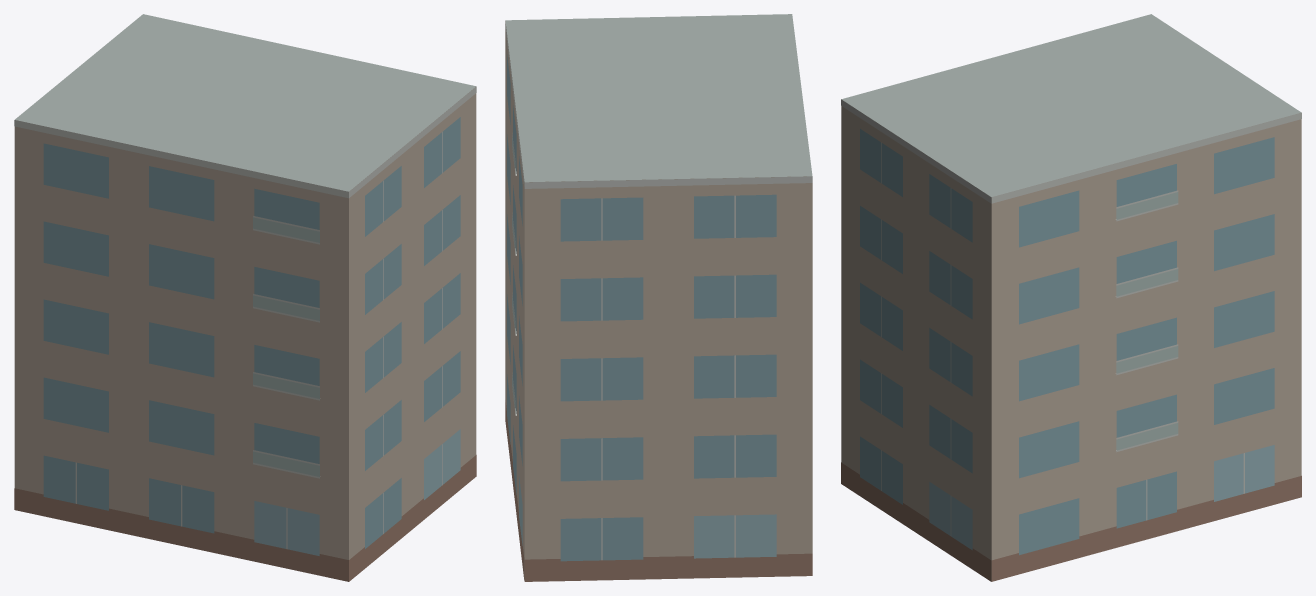
Rendered from survey-upis-32851141.glb.
The picture shows the model from 3 angles, left to right: view 1: azimuth 30°, elevation 25°; view 2: azimuth 150°, elevation 25°; view 3: azimuth 270°, elevation 25°; orthographic projection. The views are drawn at different scales.
Visible parts, largest first — view 1: survey-upis-32851141.tmp; view 2: survey-upis-32851141.tmp; view 3: survey-upis-32851141.tmp.
Boxes of the visible parts, x1,y1,x2,y2 form: survey-upis-32851141.tmp: (14,14,476,581); survey-upis-32851141.tmp: (505,14,812,581); survey-upis-32851141.tmp: (841,14,1301,581).
Bounding box in the file's own units: 14.77 × 14.45 × 15.69.
